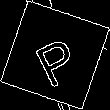P_NW: (27, 24, 83, 86)
